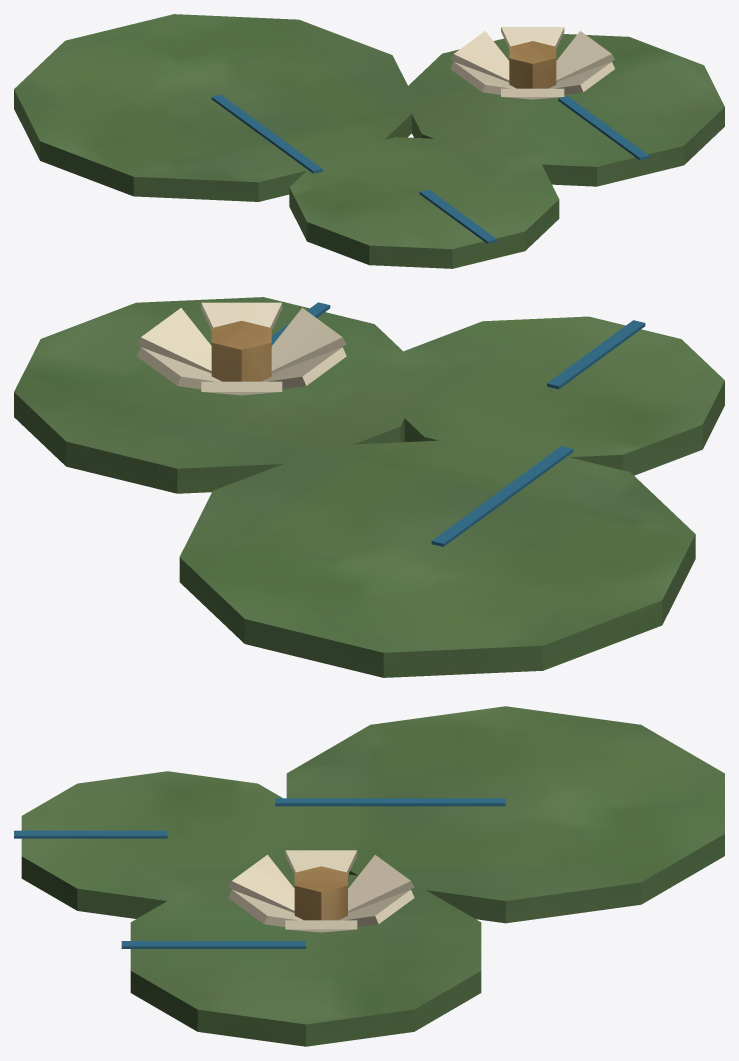
The model's file is lily.glb.
3 views of the same model, one above another, from view 1: azimuth 30°, elevation 25°; view 2: azimuth 150°, elevation 25°; view 3: azimuth 270°, elevation 25° (orthographic). The views are drawn at different scales.
Parts seen in each view (by area): view 1: moat.lily; view 2: moat.lily; view 3: moat.lily.
Part boxes in pixels (x1,y1,x2,y2): moat.lily: (14, 14, 724, 268); moat.lily: (14, 297, 724, 677); moat.lily: (14, 706, 724, 1046).
Bounding box in the file's own units: 0.49 × 0.055 × 0.4627.
Materials: 4 (3 with a texture image).
